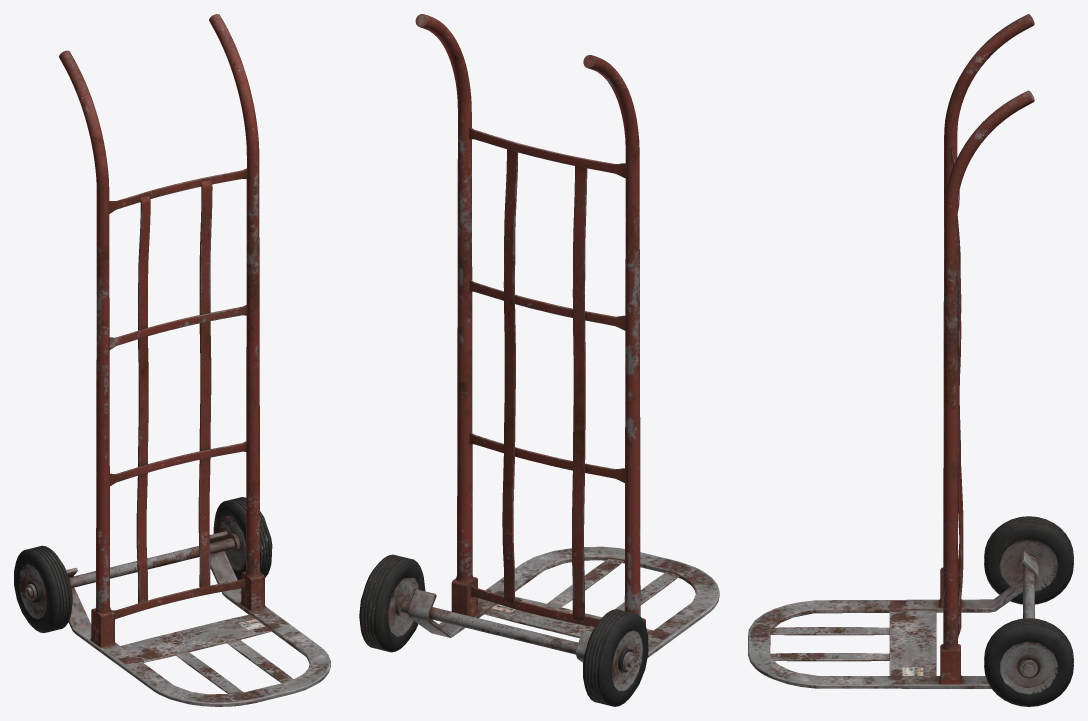
Rendered from hand-truck.glb.
3 renders of one model, left to right at view 1: azimuth 30°, elevation 25°; view 2: azimuth 150°, elevation 25°; view 3: azimuth 270°, elevation 25°, orthographic. The views are drawn at different scales.
Parts seen in each view (by area): view 1: hand_truck; view 2: hand_truck; view 3: hand_truck.
Boxes of the visible parts, left/top/right/bottom form: hand_truck: left=14, top=14, right=330, bottom=706; hand_truck: left=359, top=14, right=719, bottom=706; hand_truck: left=748, top=14, right=1073, bottom=706.
Size of the model in its own units: 0.5933 by 1.4 by 0.6922.
Materials: 1 (1 with a texture image).
